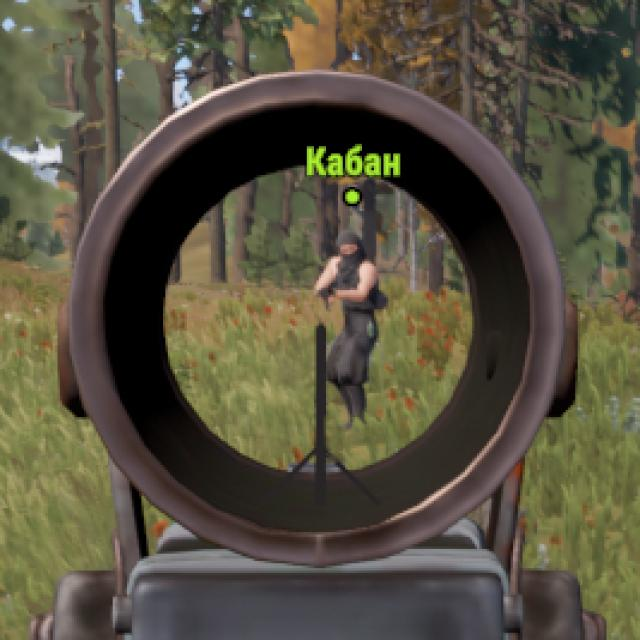Player: (315, 234, 382, 322)
